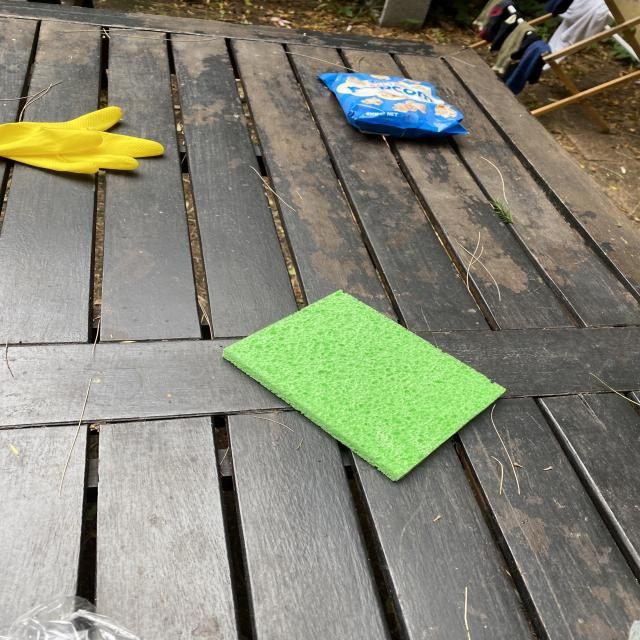bag: (318, 73, 470, 138)
glove: (0, 105, 166, 174)
sponge: (222, 290, 506, 480)
